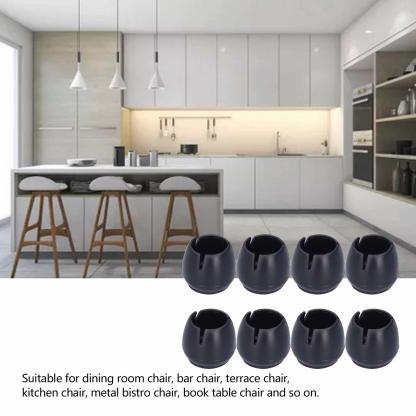chair: (15, 177, 77, 273), (87, 175, 138, 272), (152, 177, 199, 247)
